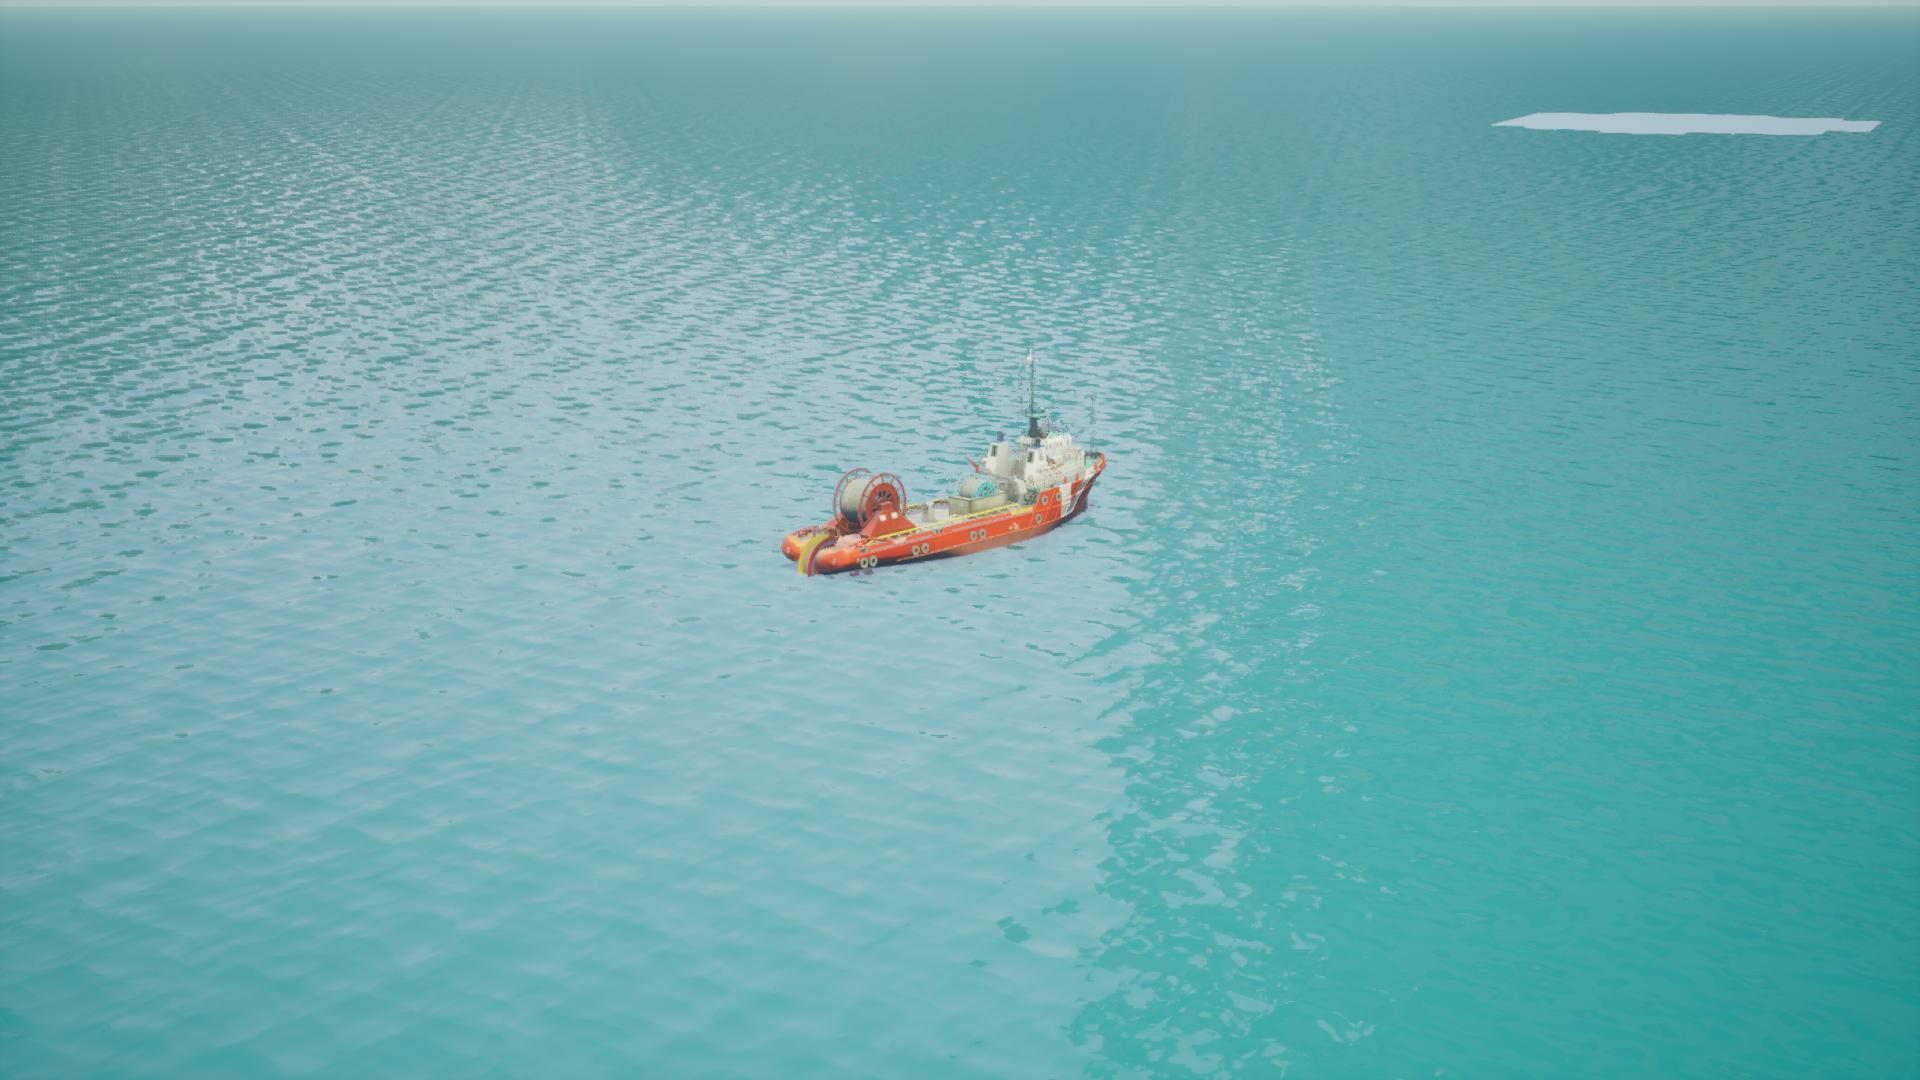Tug Boat: (791, 434, 1105, 578)
